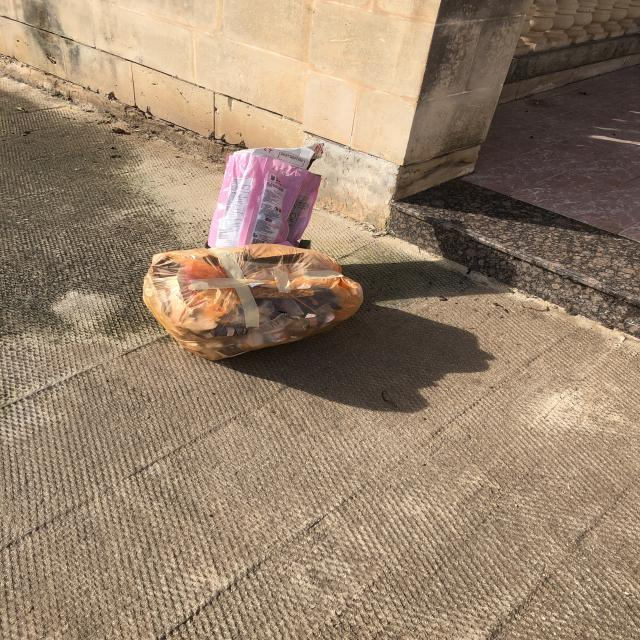Other: (143, 241, 369, 365), (206, 140, 329, 252)
